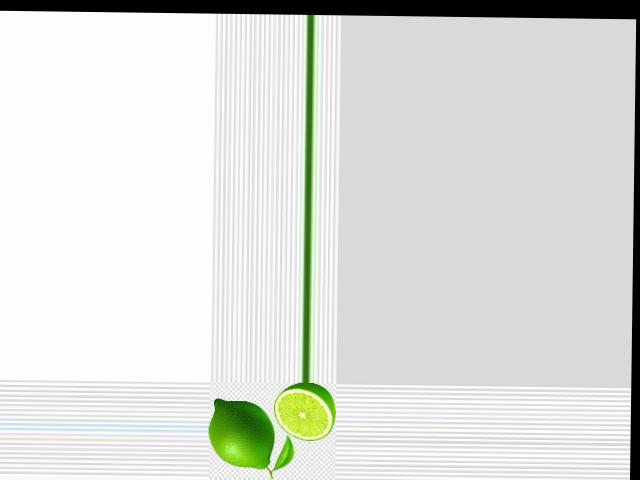lemon: (210, 395, 278, 471)
